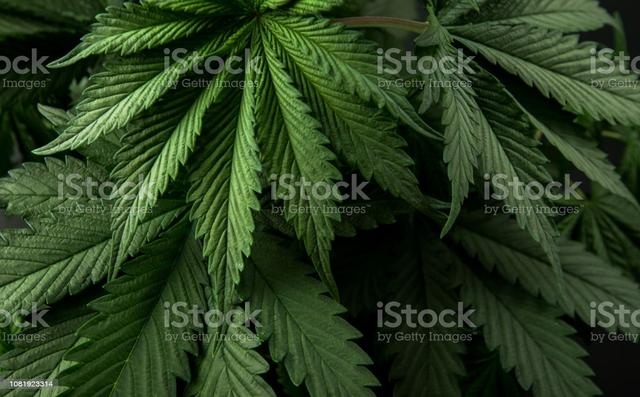Marijuana Bud: (39, 3, 445, 282), (409, 4, 640, 268)
